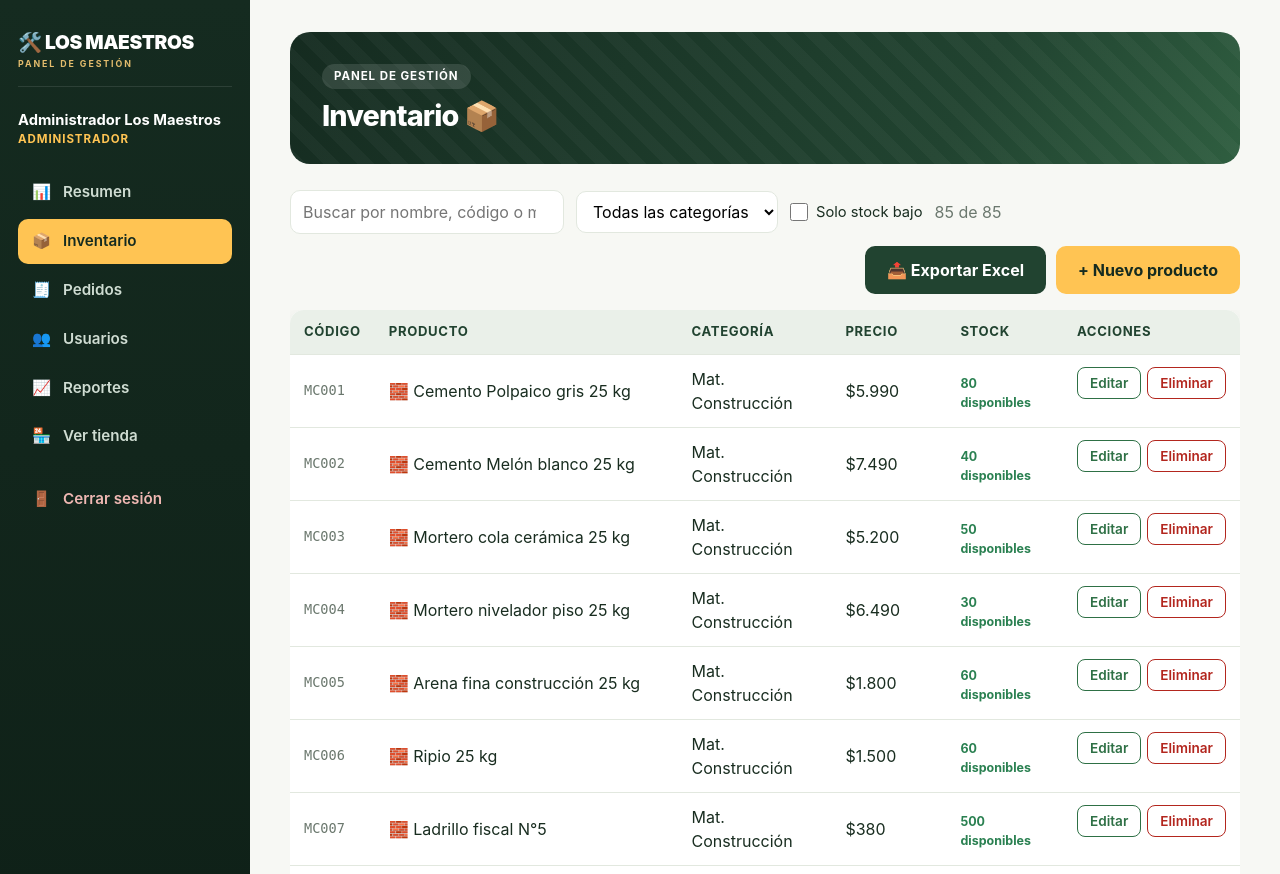
Test: Panel: inventario › P23 crear un producto valida los campos y lo agrega al inventario
The width and height of the screenshot is (1280, 874).
Step 1. Click the button "+ Nuevo producto" → [1148, 270], box [1056, 246, 1240, 294]
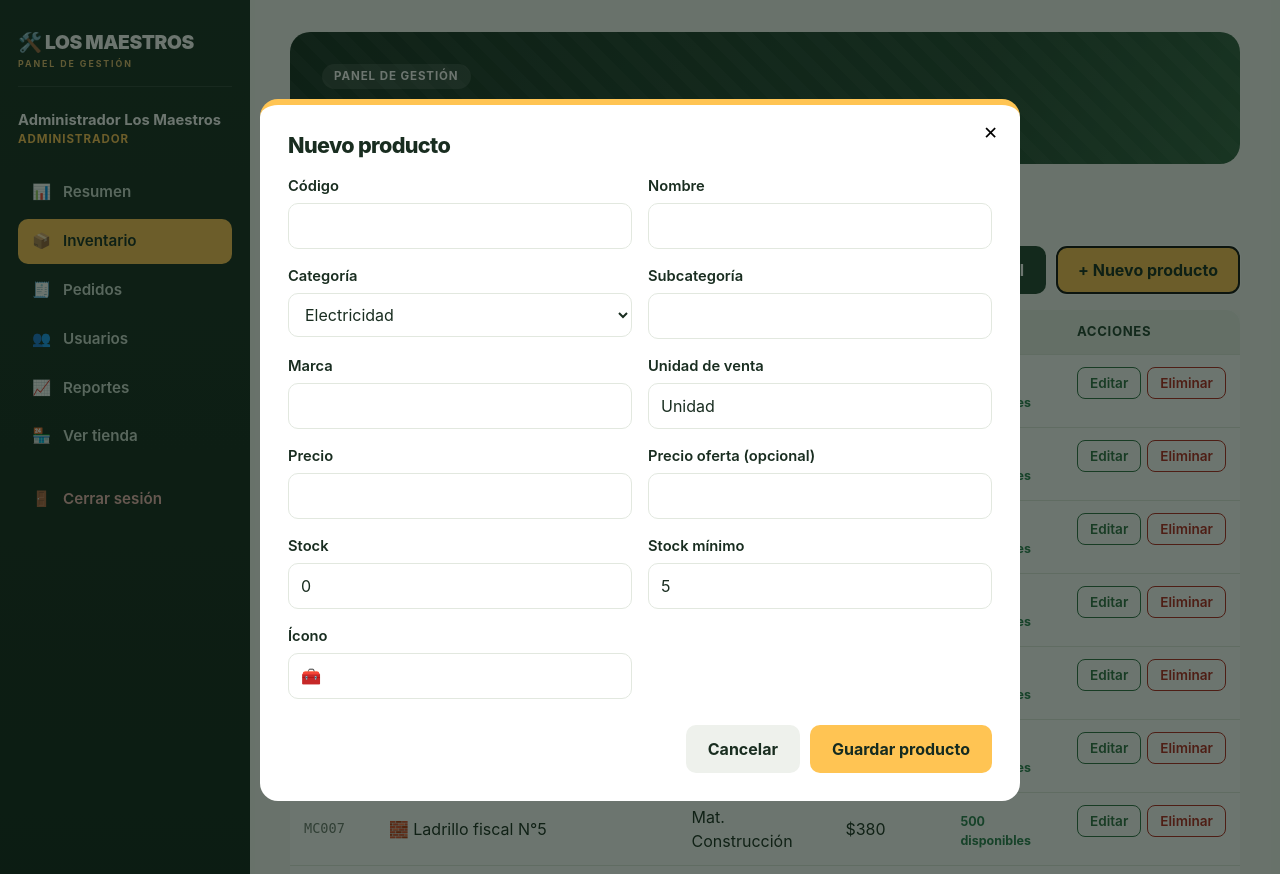
Step 2. Click the button "Guardar producto" → [901, 749], box [810, 725, 992, 773]
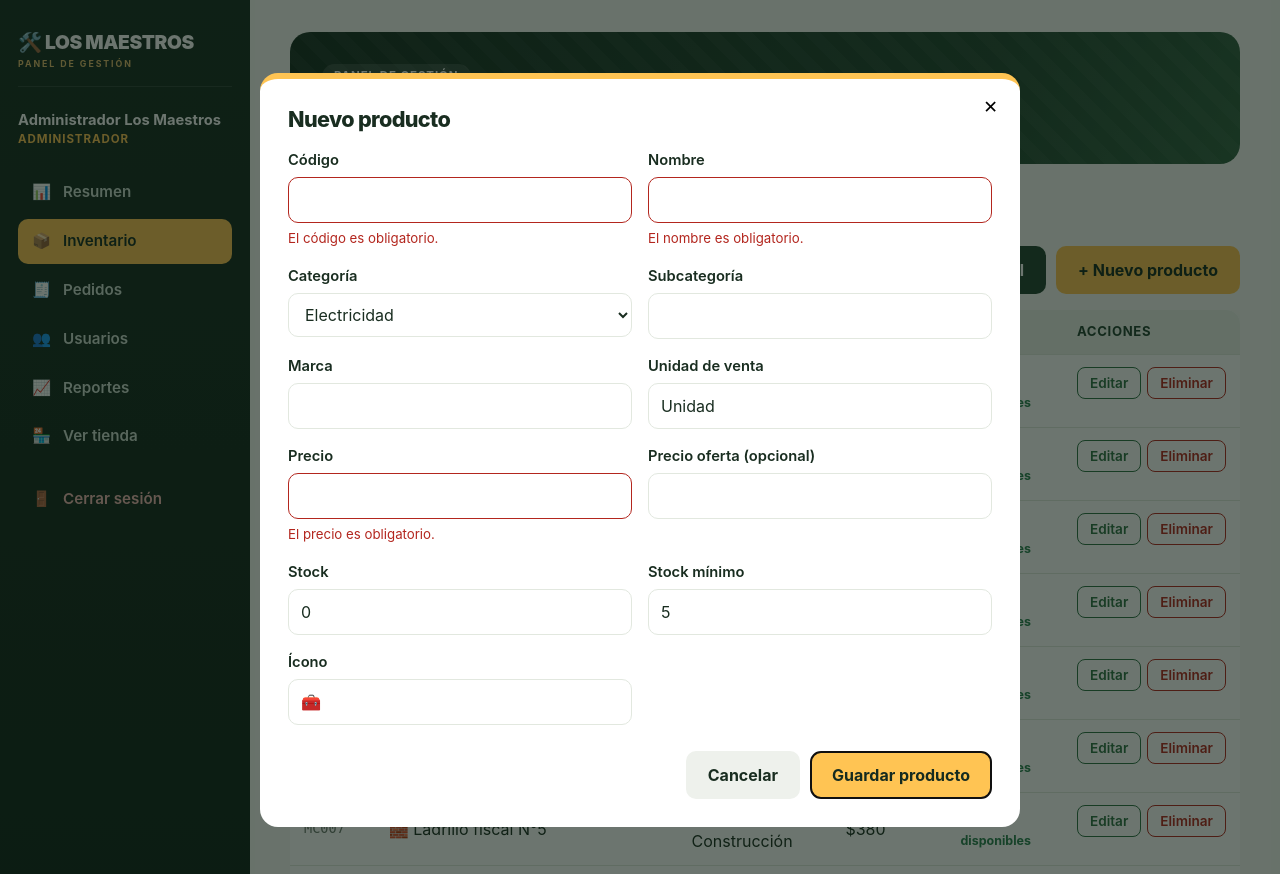
Expected: the text "El código es obligatorio." is shown, [288, 230, 438, 246]
Step 3. Type "JD900" into the field labelled "Código" → [460, 200], box [288, 177, 632, 223]
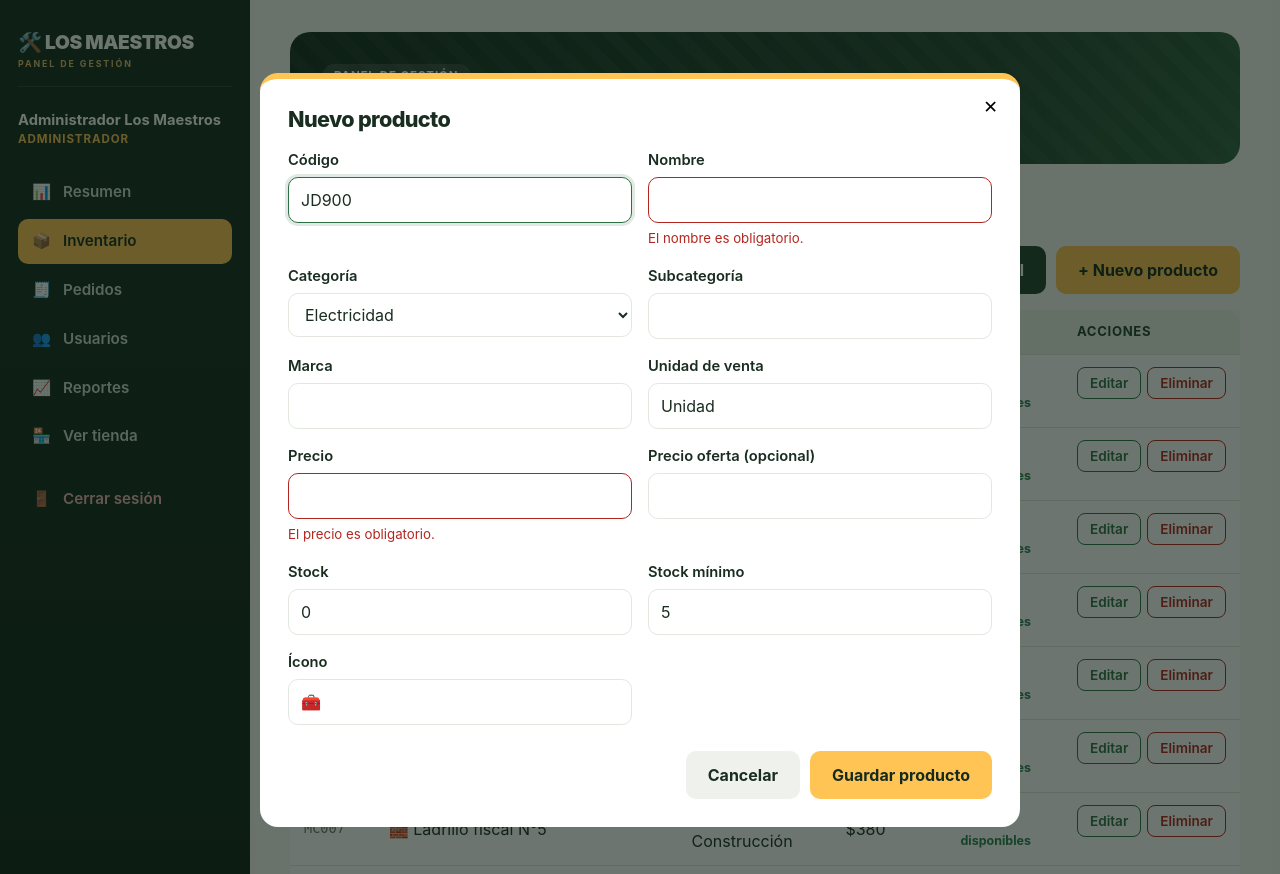
Step 4. Type "Carretilla 90L" into the field labelled "Nombre" → [820, 200], box [648, 177, 992, 223]
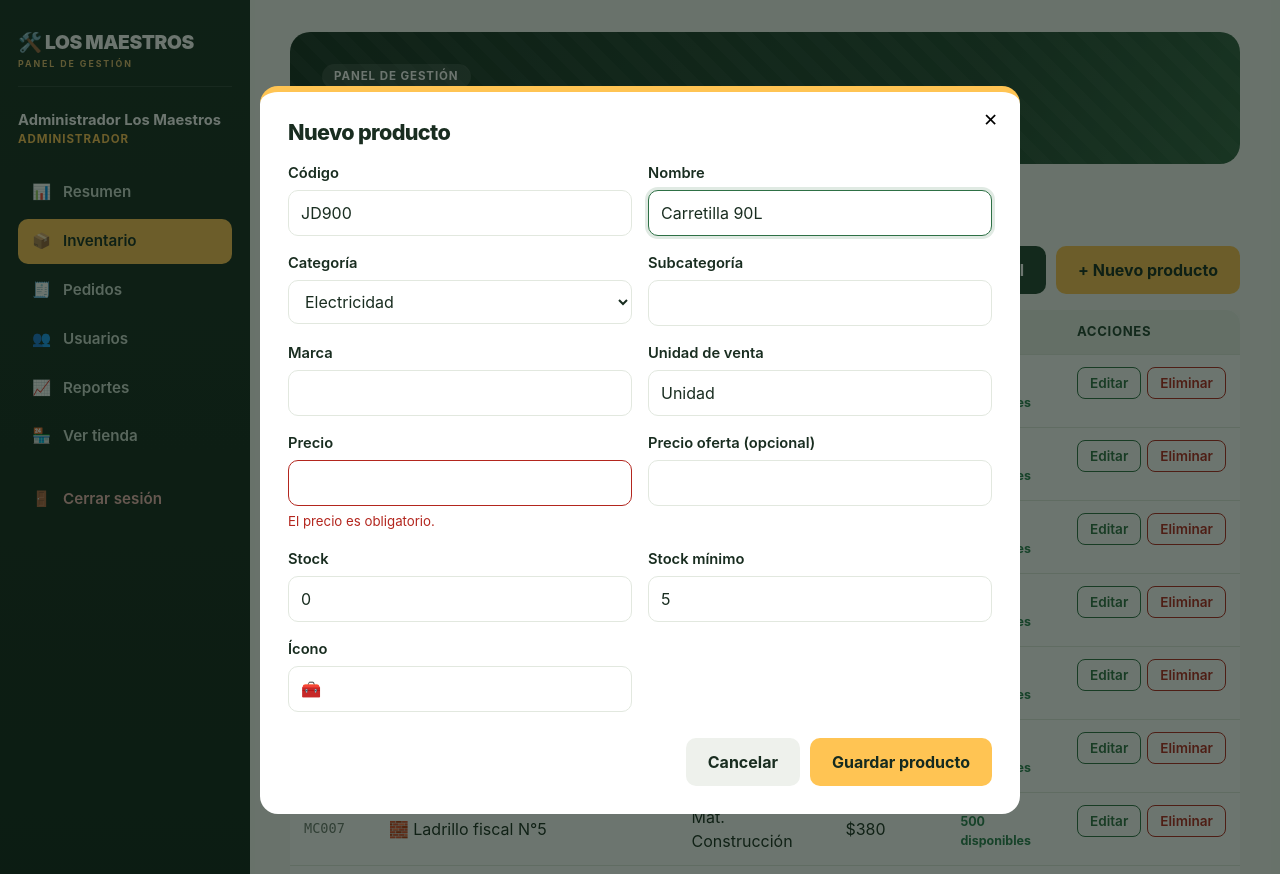
Step 5. Type "45990" into the number field labelled "Precio" → [460, 483], box [288, 460, 632, 506]
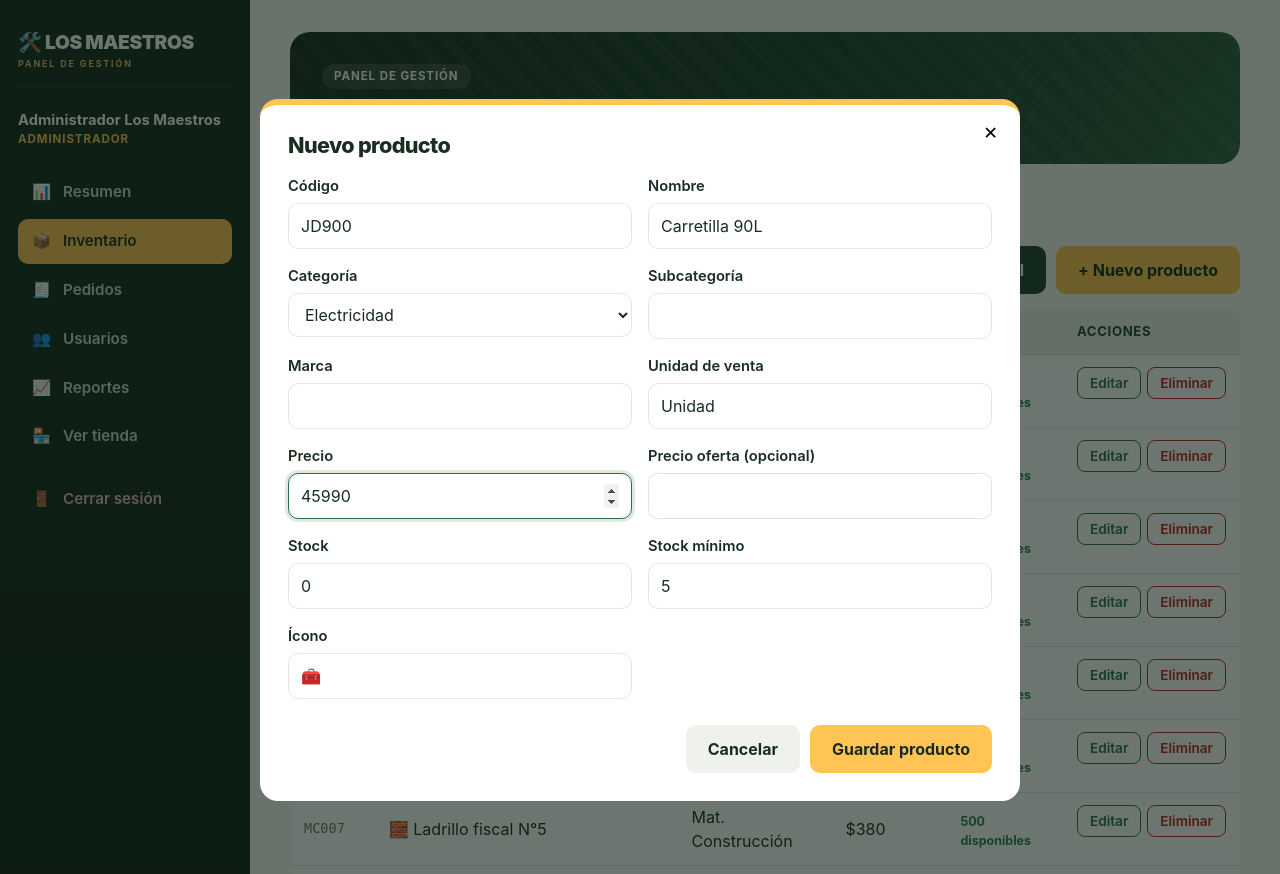
Step 6. Click the button "Guardar producto" → [901, 749], box [810, 725, 992, 773]
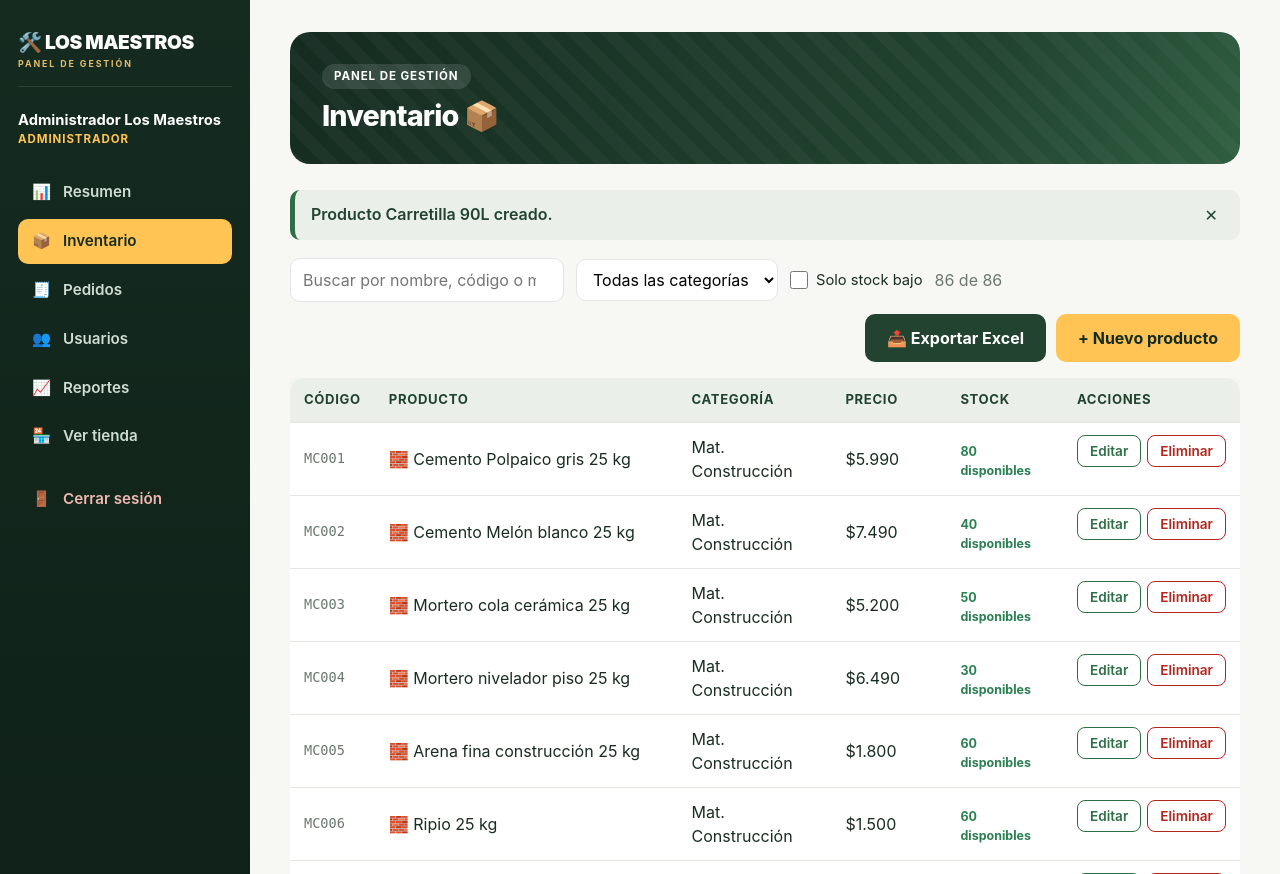
Expected: the dialog is gone
Expected: the text "Producto Carretilla 90L creado." is shown, [311, 204, 553, 224]
